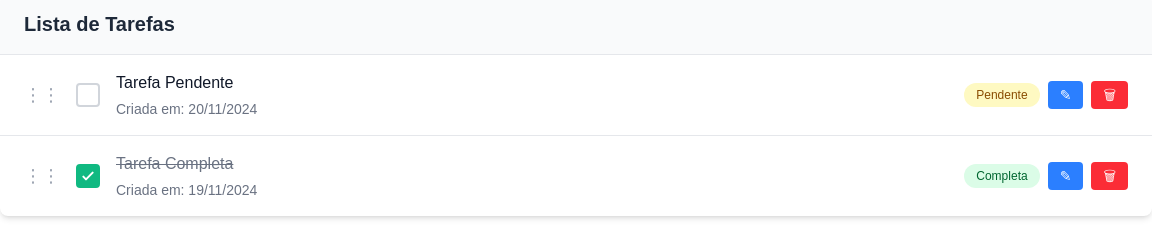
Test: ListaTarefas › deve ativar modo de edição ao clicar no botão editar
Click the button named "Editar tarefa" at x=1065, y=95, box [1048, 81, 1083, 109]
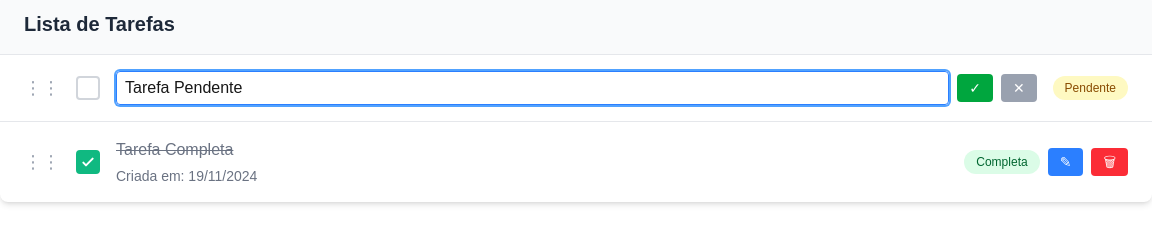
Expected: the field showing "Tarefa Pendente" is shown, [116, 71, 949, 105]
